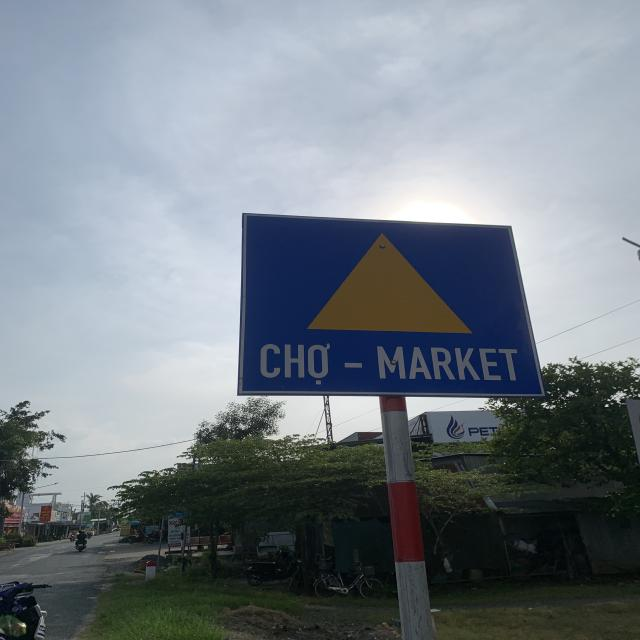Cho_Quay_Xe: (241, 214, 547, 394)
